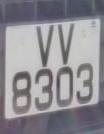0: (53, 62, 78, 112)
3: (32, 65, 57, 115), (74, 59, 96, 111)
8: (9, 63, 34, 120)
V: (34, 21, 57, 68), (55, 20, 78, 66)
